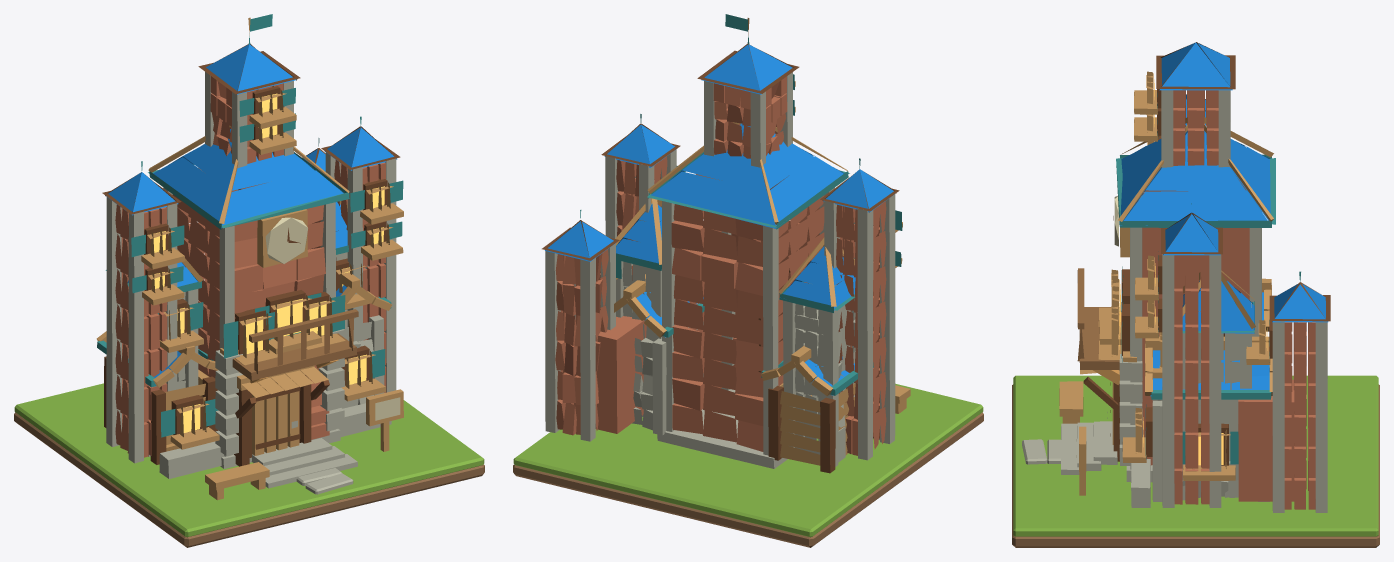
Rendered from town_hall_l13_active_LOD2.glb.
3 renders of one model, left to right at view 1: azimuth 30°, elevation 25°; view 2: azimuth 150°, elevation 25°; view 3: azimuth 270°, elevation 25°, orthographic. The views are drawn at different scales.
Parts seen in each view (by area): view 1: town_hall_l13_active_foundation.001, town_hall_l13_active_grass_tile.001, town_hall_l13_active_earth_tile.001, town_hall_l13_active_path_stone.005; view 2: town_hall_l13_active_foundation.001, town_hall_l13_active_grass_tile.001, town_hall_l13_active_earth_tile.001; view 3: town_hall_l13_active_foundation.001, town_hall_l13_active_grass_tile.001, town_hall_l13_active_earth_tile.001, town_hall_l13_active_path_stone.005.
Part boxes in pixels (left/top/right/bottom): town_hall_l13_active_foundation.001: left=96, top=14, right=403, bottom=500; town_hall_l13_active_grass_tile.001: left=14, top=383, right=484, bottom=537; town_hall_l13_active_earth_tile.001: left=14, top=412, right=484, bottom=547; town_hall_l13_active_path_stone.005: left=305, top=473, right=353, bottom=494; town_hall_l13_active_foundation.001: left=542, top=14, right=910, bottom=473; town_hall_l13_active_grass_tile.001: left=513, top=383, right=983, bottom=537; town_hall_l13_active_earth_tile.001: left=513, top=412, right=983, bottom=547; town_hall_l13_active_foundation.001: left=1059, top=42, right=1330, bottom=512; town_hall_l13_active_grass_tile.001: left=1013, top=375, right=1378, bottom=536; town_hall_l13_active_earth_tile.001: left=1012, top=384, right=1379, bottom=547; town_hall_l13_active_path_stone.005: left=1022, top=439, right=1047, bottom=464.
Size of the model in its own units: 3.6 by 4.94 by 3.6.
